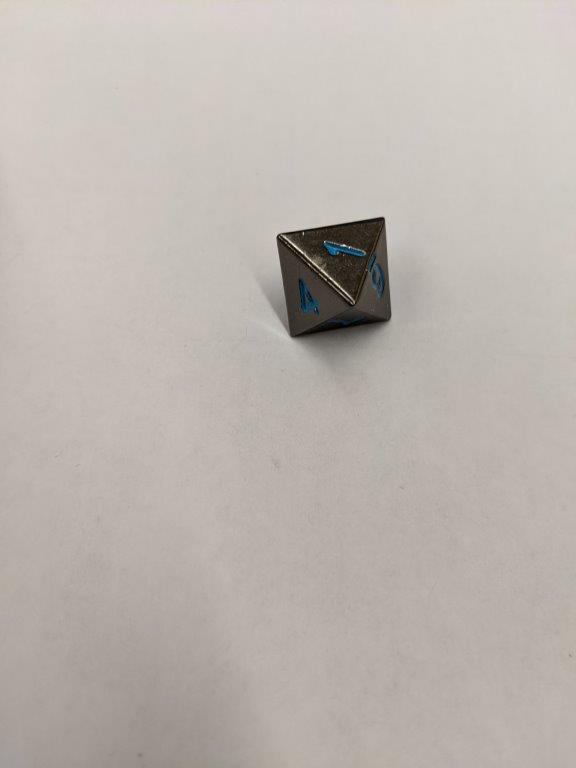d8-1: (276, 213, 396, 340)
